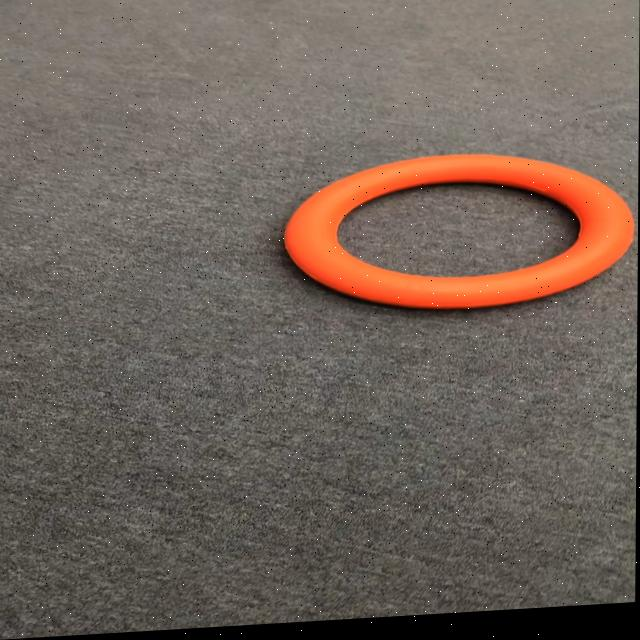note: (283, 155, 637, 324)
